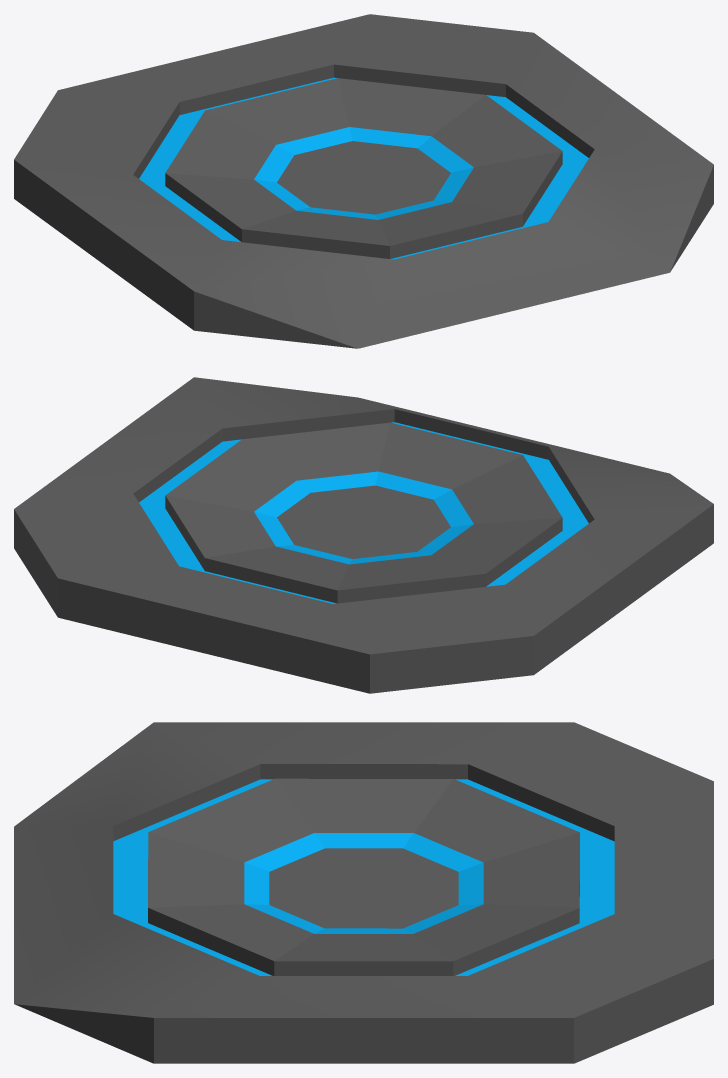
File: BounceV2.fbx
The picture shows the model from 3 angles, top to bottom: view 1: azimuth 30°, elevation 25°; view 2: azimuth 150°, elevation 25°; view 3: azimuth 270°, elevation 25°; orthographic projection. The views are drawn at different scales.
Parts seen in each view (by area): view 1: polySurface48; view 2: polySurface48; view 3: polySurface48.
Part boxes in pixels (bbox=[...]): polySurface48: bbox=[14, 14, 713, 348]; polySurface48: bbox=[14, 377, 713, 693]; polySurface48: bbox=[14, 722, 713, 1063].
Size of the model in its own units: 0.2358 by 0.017 by 0.2358.
